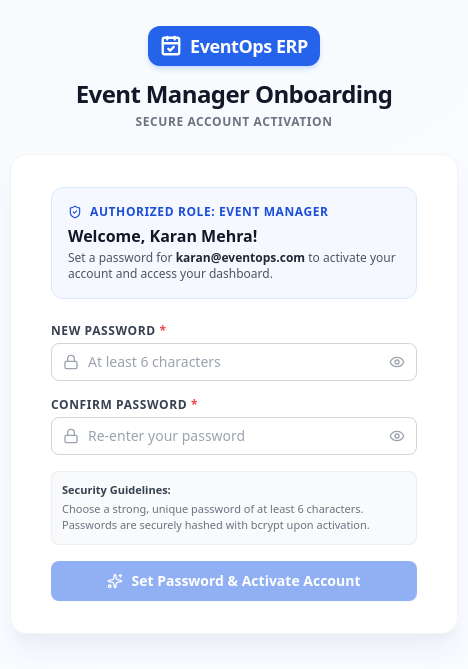
it: AcceptInvitation Component › validates password matching and minimum length
Expected: the heading "Welcome, Karan Mehra!" is shown, [68, 225, 257, 247]
Mismatched passwords
Type "password123" into the password field with placeholder "At least 6 characters" at (234, 362), box [51, 343, 417, 381]
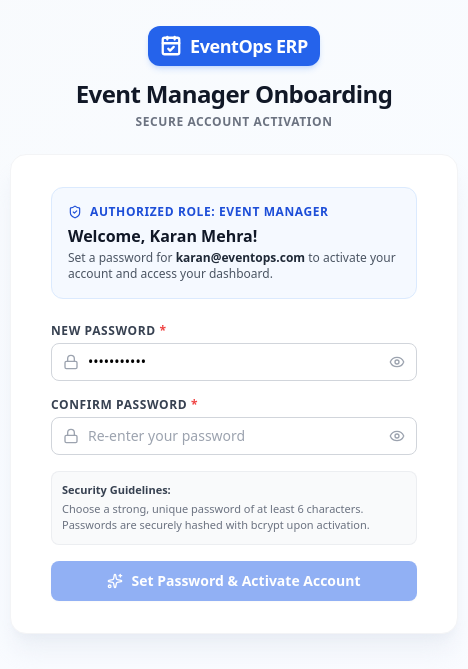
Type "mismatch456" into the password field with placeholder "Re-enter your password" at (234, 436), box [51, 417, 417, 455]
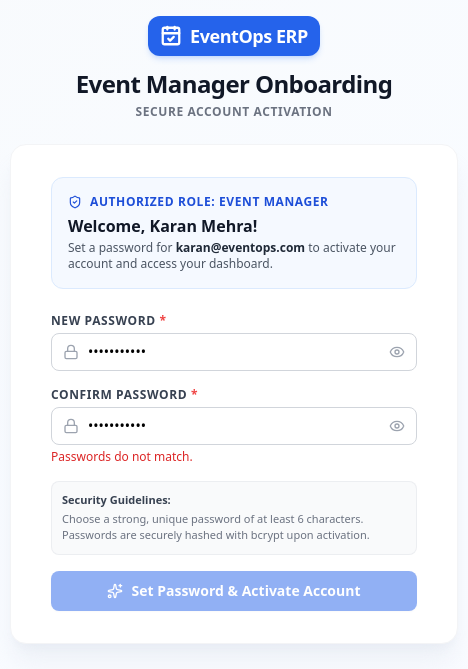
Now the text "Passwords do not match." is shown, box [51, 448, 193, 465]
Matching passwords
Type "password123" into the password field with placeholder "Re-enter your password" below "Confirm Password" at (234, 426), box [51, 407, 417, 445]
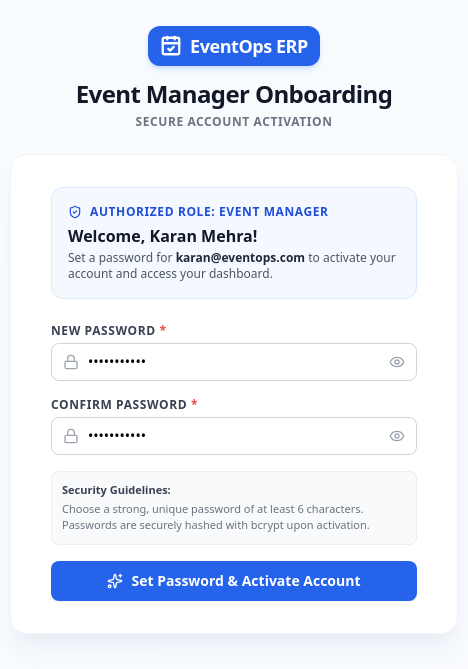
Now the text "Passwords do not match." is gone
